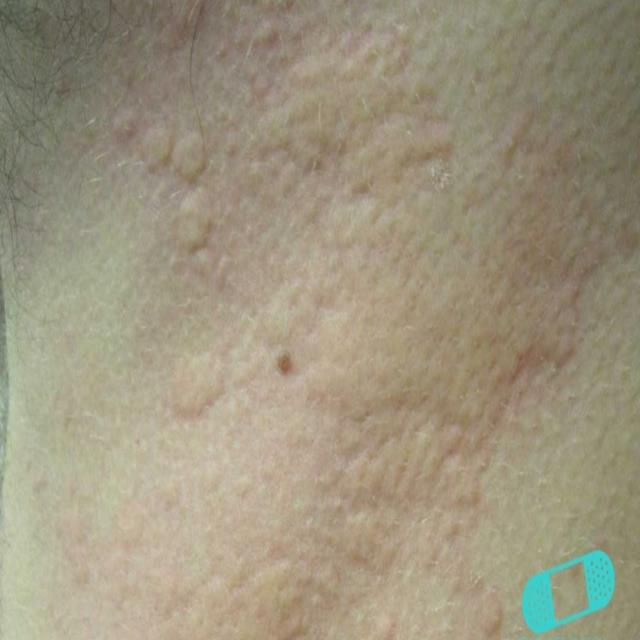hives: (101, 58, 270, 459)
